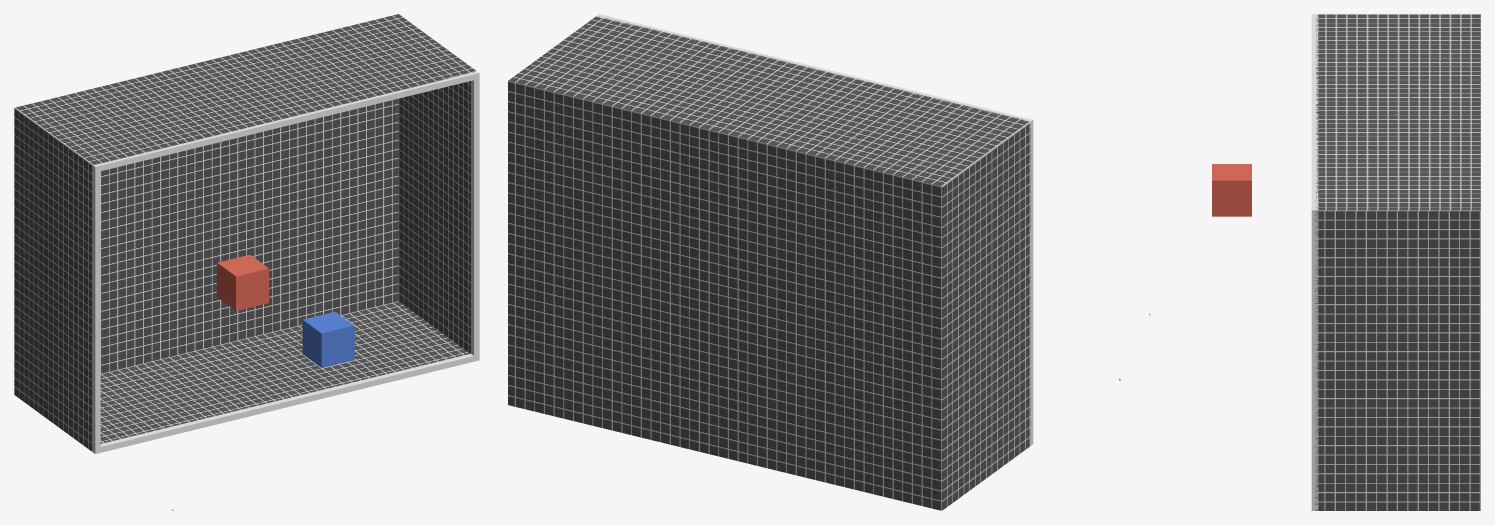
The model's file is window_box.glb.
3 views of the same model, side by side, from view 1: azimuth 30°, elevation 25°; view 2: azimuth 150°, elevation 25°; view 3: azimuth 270°, elevation 25° (orthographic). The views are drawn at different scales.
Visible parts, largest first — view 1: box_walls, zdp_frame, cube_back, cube_front; view 2: box_walls, zdp_frame; view 3: box_walls, zdp_frame, cube_front.
Part boxes in pixels (bbox=[...]): box_walls: bbox=[14, 14, 475, 451]; zdp_frame: bbox=[92, 71, 479, 453]; cube_back: bbox=[302, 311, 354, 367]; cube_front: bbox=[217, 254, 268, 310]; box_walls: bbox=[508, 16, 1031, 510]; zdp_frame: bbox=[596, 14, 1033, 446]; box_walls: bbox=[1315, 14, 1480, 510]; zdp_frame: bbox=[1311, 14, 1318, 510]; cube_front: bbox=[1212, 164, 1251, 216].
Bounding box in the file's own units: 1.4 × 1 × 1.
Materials: 5 (1 with a texture image).
